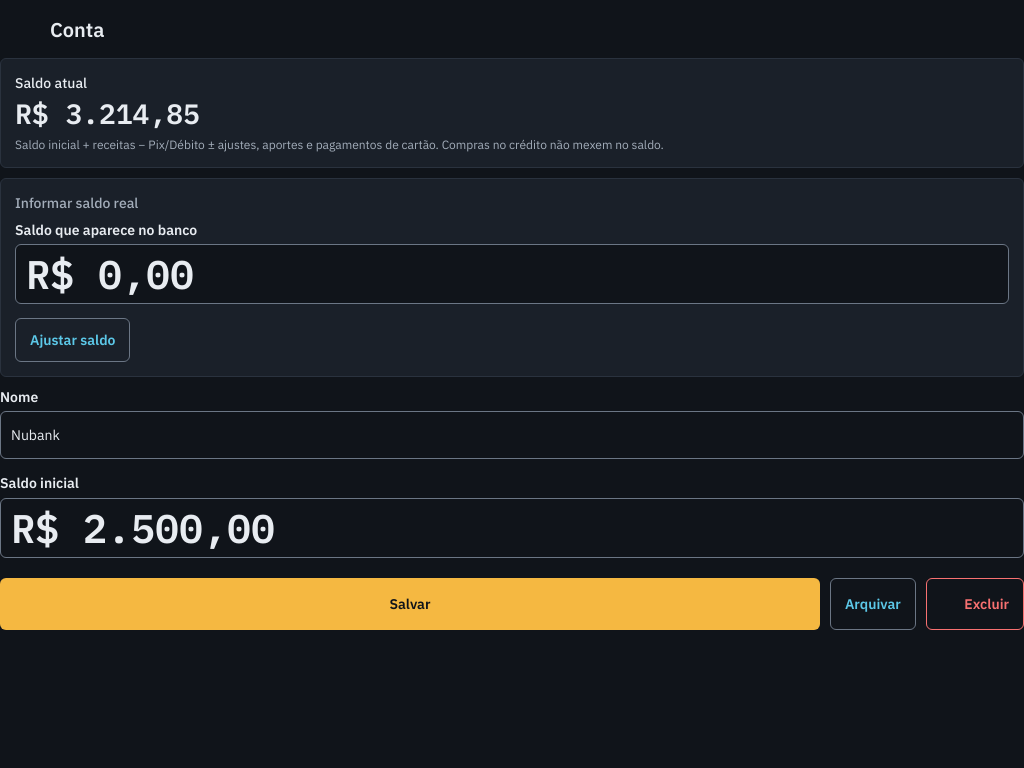
Test case: Conta (T16): excluir › pede confirmação antes de excluir; cancelar no diálogo não exclui
Click the button "Excluir".
click(975, 604)  # box [926, 578, 1023, 630]
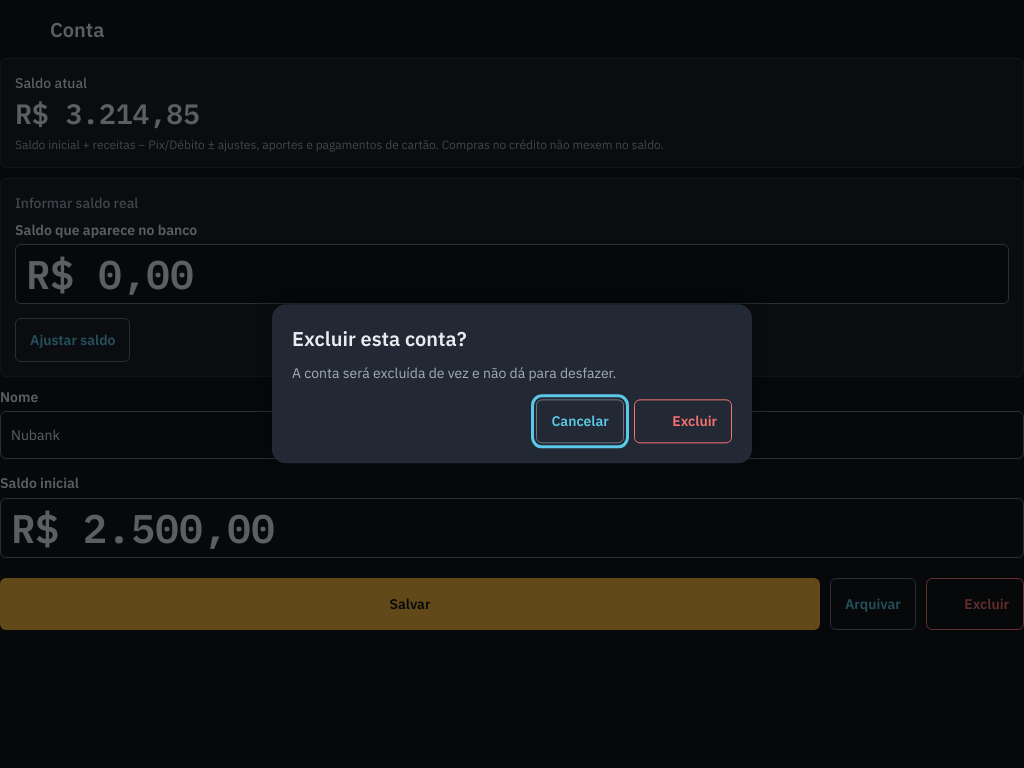
Click the button "Cancelar".
click(580, 422)  # box [536, 400, 624, 444]
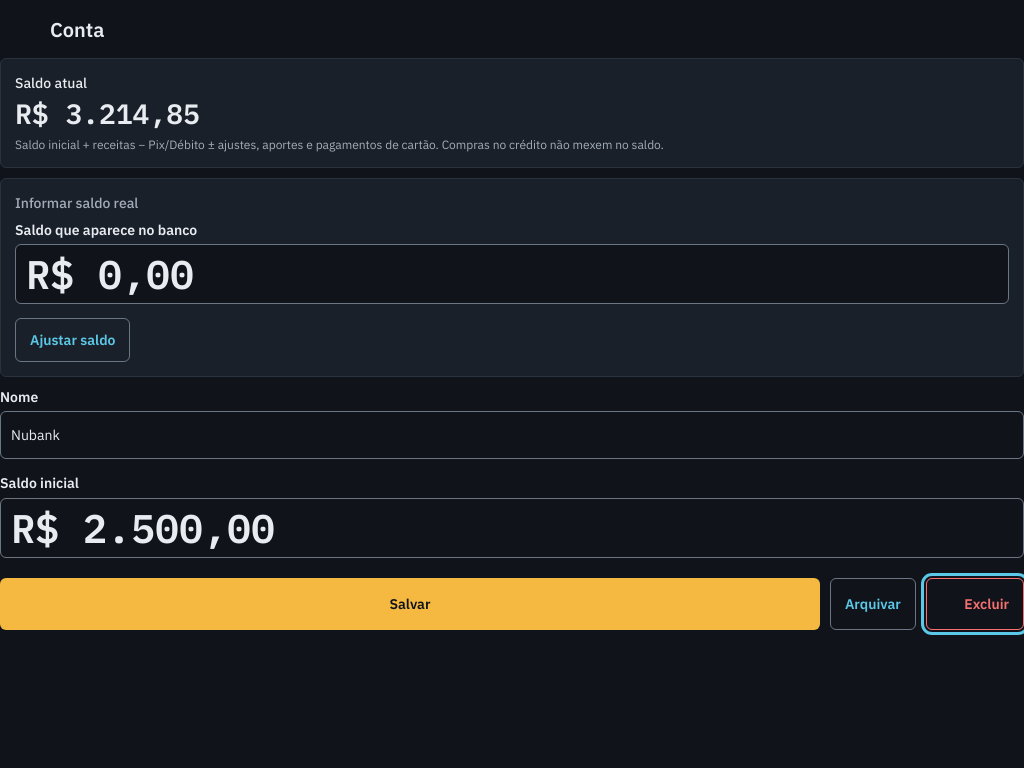
Expected: the dialog is gone
